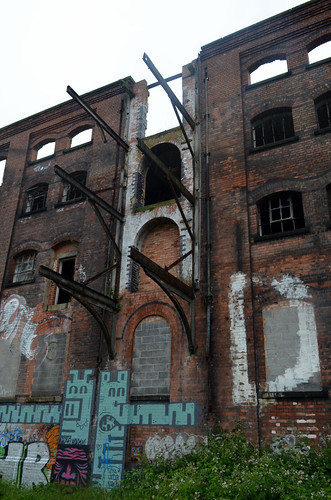building: (1, 1, 331, 500)
graffiti: (1, 429, 105, 500), (1, 288, 80, 376)
